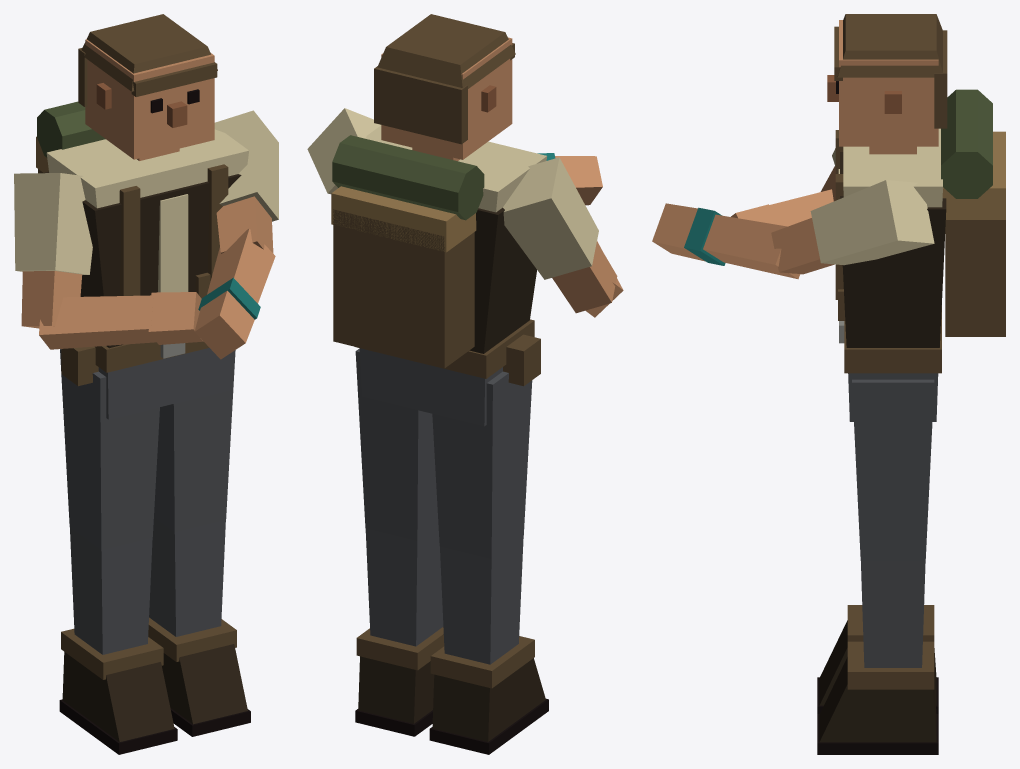
The model's file is grunt.glb.
3 renders of one model, left to right at view 1: azimuth 30°, elevation 25°; view 2: azimuth 150°, elevation 25°; view 3: azimuth 270°, elevation 25°, orthographic. The views are drawn at different scales.
Parts seen in each view (by area): view 1: torso, leg_r_lower, head, leg_l_lower, leg_r, arm_r, leg_l, arm_r_lower, arm_l, arm_l_lower, pack; view 2: pack, torso, leg_r_lower, head, leg_l_lower, leg_r, arm_r, leg_l, arm_l, arm_l_lower; view 3: torso, leg_l_lower, head, pack, leg_l, arm_l, arm_l_lower, leg_r_lower, arm_r_lower.
Boxes of the visible parts, x1=… form: torso: x1=43, y1=129, x2=248, y2=419; leg_r_lower: x1=59, y1=528, x2=177, y2=754; head: x1=78, y1=14, x2=217, y2=160; leg_l_lower: x1=148, y1=518, x2=250, y2=736; leg_r: x1=60, y1=349, x2=159, y2=550; arm_r: x1=14, y1=173, x2=92, y2=328; leg_l: x1=154, y1=350, x2=235, y2=532; arm_r_lower: x1=39, y1=292, x2=203, y2=349; arm_l: x1=214, y1=110, x2=278, y2=253; arm_l_lower: x1=194, y1=228, x2=275, y2=359; pack: x1=36, y1=101, x2=105, y2=173; pack: x1=331, y1=135, x2=484, y2=368; torso: x1=356, y1=125, x2=547, y2=426; leg_r_lower: x1=429, y1=536, x2=548, y2=754; head: x1=374, y1=14, x2=515, y2=161; leg_l_lower: x1=355, y1=525, x2=444, y2=736; leg_r: x1=432, y1=371, x2=532, y2=558; arm_r: x1=503, y1=157, x2=617, y2=313; leg_l: x1=355, y1=348, x2=438, y2=540; arm_l: x1=307, y1=108, x2=380, y2=194; arm_l_lower: x1=537, y1=153, x2=602, y2=205; torso: x1=835, y1=128, x2=946, y2=421; leg_l_lower: x1=817, y1=560, x2=938, y2=754; head: x1=827, y1=14, x2=947, y2=154; pack: x1=941, y1=89, x2=1005, y2=336; leg_l: x1=852, y1=379, x2=934, y2=560; arm_l: x1=771, y1=180, x2=934, y2=274; arm_l_lower: x1=652, y1=203, x2=800, y2=279; leg_r_lower: x1=817, y1=605, x2=938, y2=713; arm_r_lower: x1=731, y1=189, x2=833, y2=226.
Size of the model in its own units: 0.7612 by 1.75 by 0.8162.
